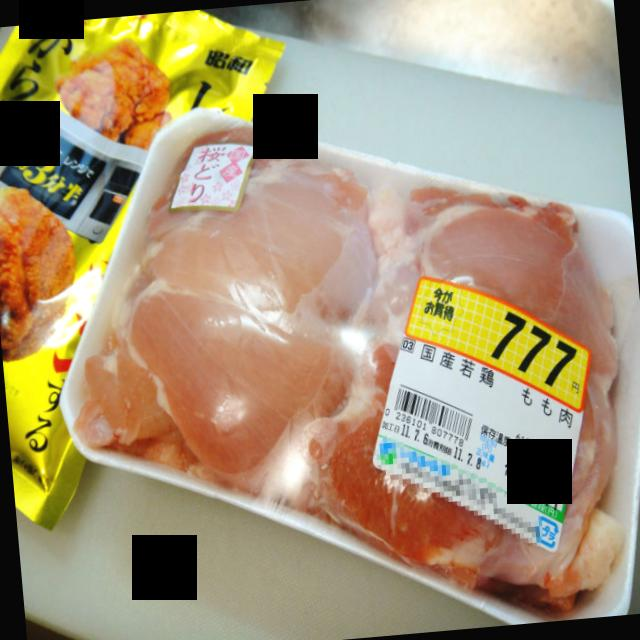chicken: (58, 109, 640, 625)
